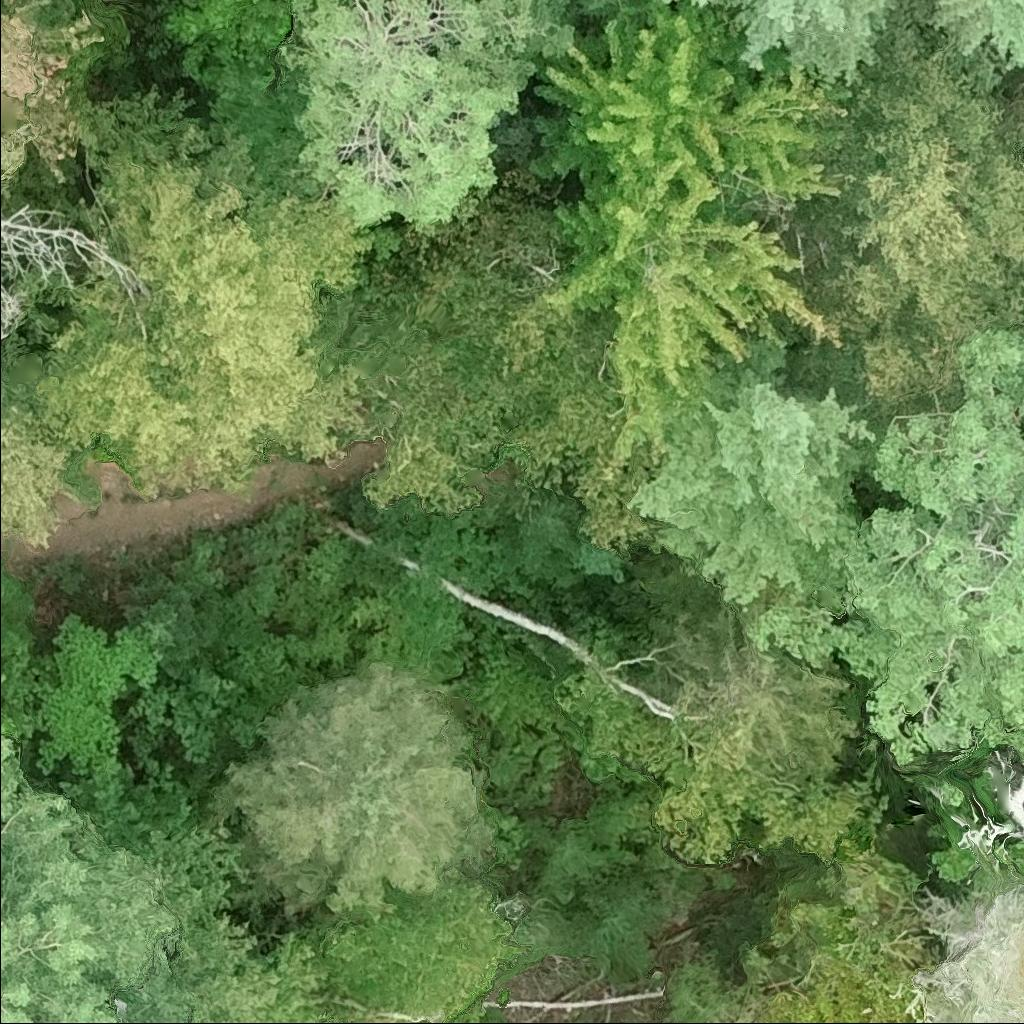crown: (526, 0, 852, 477), (30, 124, 382, 492), (745, 324, 1023, 774), (347, 207, 660, 546), (776, 8, 1023, 427), (279, 0, 602, 233), (207, 659, 493, 921), (625, 339, 884, 620), (548, 667, 886, 864), (0, 735, 198, 1023), (640, 588, 861, 783), (760, 835, 941, 1023), (687, 0, 1023, 91), (316, 868, 518, 1015), (9, 616, 158, 776), (163, 0, 297, 153), (0, 0, 109, 188), (170, 912, 333, 1023), (660, 941, 806, 1023), (119, 569, 224, 681), (0, 405, 77, 549), (0, 559, 42, 653), (0, 124, 28, 184), (574, 0, 627, 25), (1020, 90, 1023, 111)
